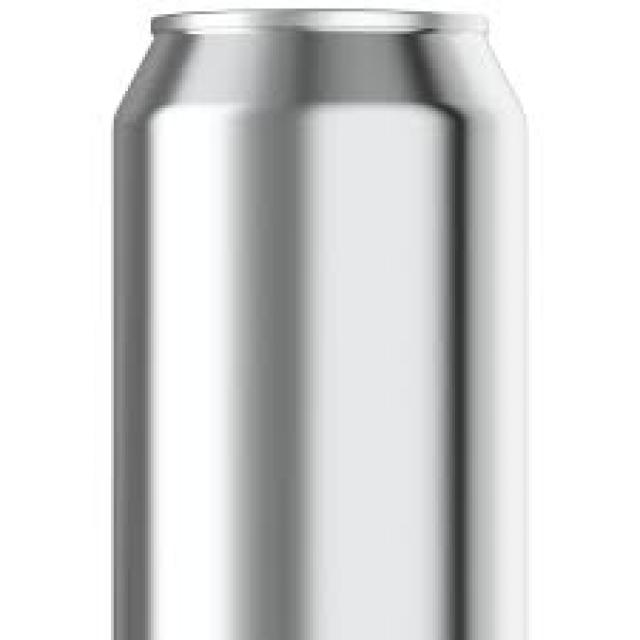Cans: (102, 3, 538, 640)
